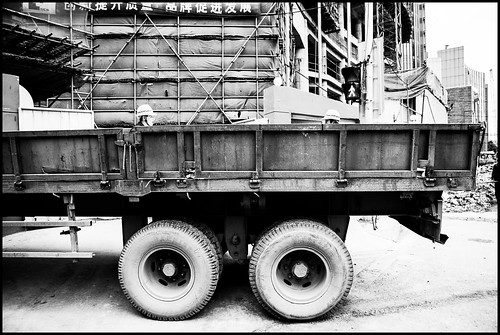building: (94, 1, 431, 121), (437, 45, 500, 127)
truck: (1, 113, 458, 335)
